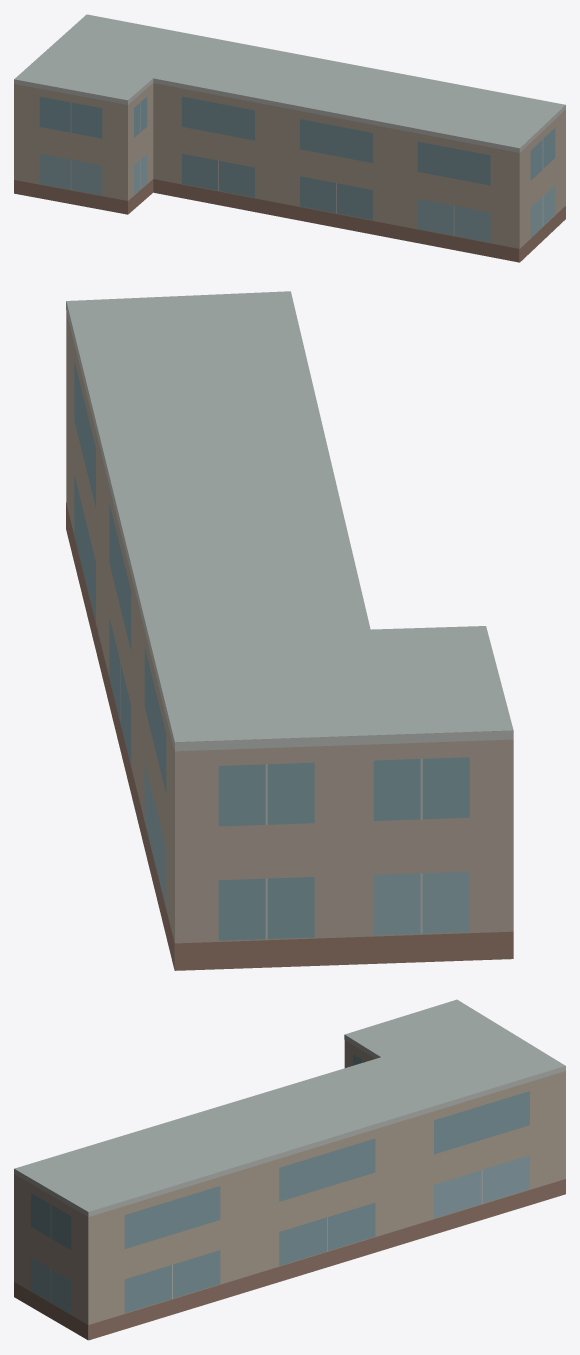
File: survey-upis-32684389.glb
3 renders of one model, top to bottom at view 1: azimuth 30°, elevation 25°; view 2: azimuth 150°, elevation 25°; view 3: azimuth 270°, elevation 25°, orthographic. The views are drawn at different scales.
Parts seen in each view (by area): view 1: survey-upis-32684389.tmp; view 2: survey-upis-32684389.tmp; view 3: survey-upis-32684389.tmp.
Part boxes in pixels (left/top/right/bottom): survey-upis-32684389.tmp: left=14, top=14, right=565, bottom=262; survey-upis-32684389.tmp: left=66, top=291, right=513, bottom=970; survey-upis-32684389.tmp: left=14, top=999, right=565, bottom=1340.
Bounding box in the file's own units: 21.67 × 6.1 × 23.77.
